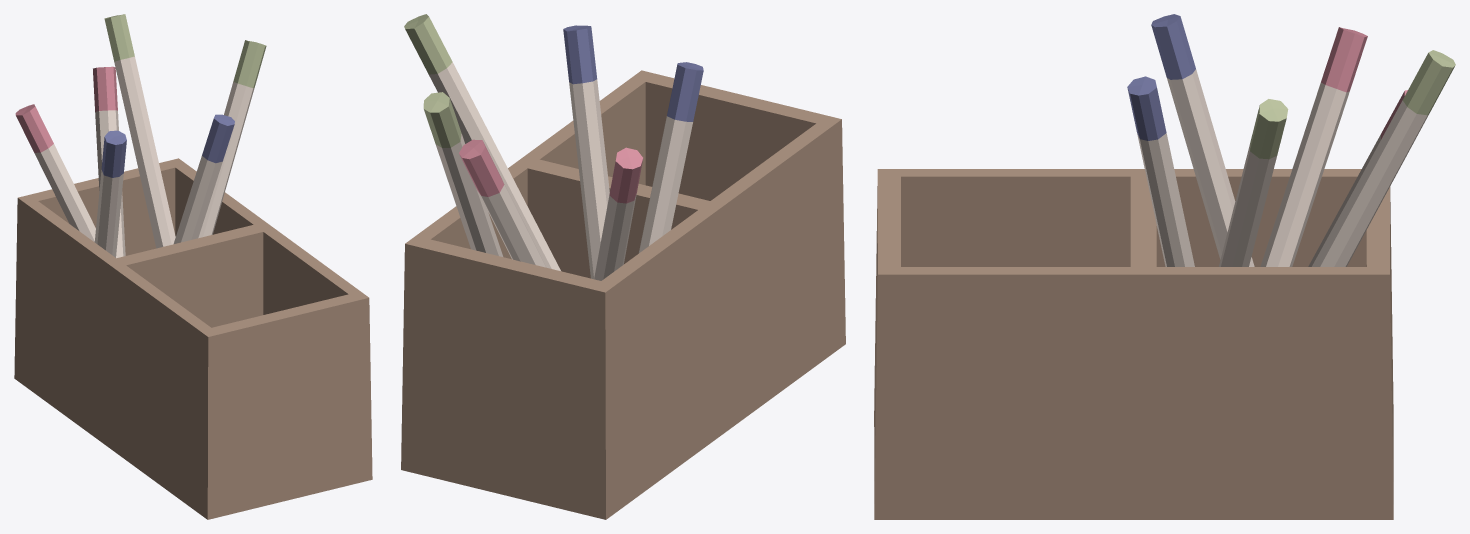
File: Pancils.fbx
The picture shows the model from 3 angles, left to right: view 1: azimuth 30°, elevation 25°; view 2: azimuth 150°, elevation 25°; view 3: azimuth 270°, elevation 25°; orthographic projection. The views are drawn at different scales.
Parts seen in each view (by area): view 1: Pancils; view 2: Pancils; view 3: Pancils.
Part boxes in pixels (box(x1,y1,x2,y2)): Pancils: box(14, 14, 372, 519); Pancils: box(401, 14, 845, 519); Pancils: box(874, 14, 1455, 519).
Bounding box in the file's own units: 21.85 × 37.36 × 30.95.
